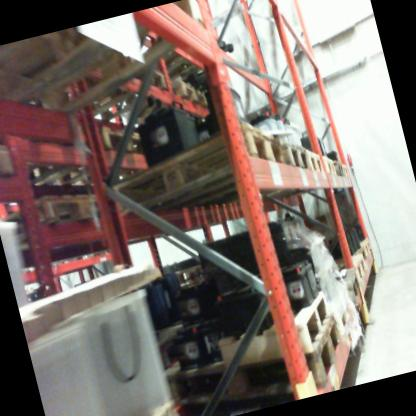pallet: (149, 297, 364, 416), (94, 111, 294, 226), (24, 38, 182, 123), (209, 279, 349, 373), (2, 173, 111, 252), (109, 68, 224, 131), (86, 107, 164, 173), (315, 261, 367, 311), (323, 244, 372, 283), (279, 137, 313, 180), (124, 392, 180, 416), (300, 141, 326, 179), (330, 153, 346, 187), (318, 150, 337, 178), (352, 237, 370, 262), (341, 157, 353, 178), (362, 232, 372, 250)
